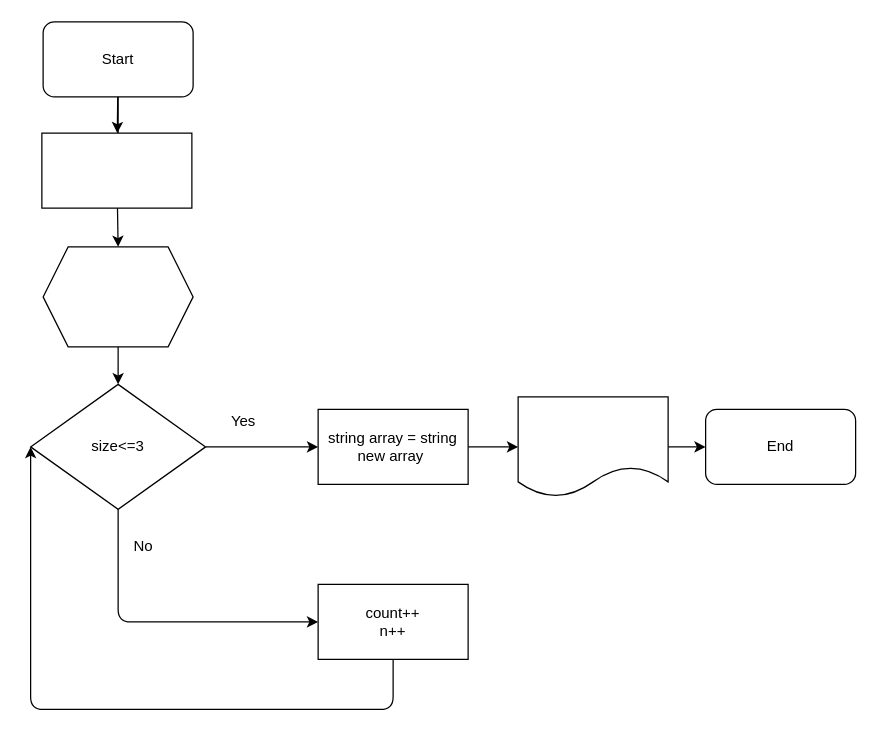
Some shapes in this 878 by 741 pixel diagram are drawn without their labels. The shapes that lost their labels are listed below. From the top down, each one's centre as x and y in pixels, then its label:
At pixel 116 170: "string array[size] count = 0 i = 0 n = 0".
At pixel 117 296: "for(int i=0; i<mass.Length; i++".
At pixel 592 446: "string new array".
